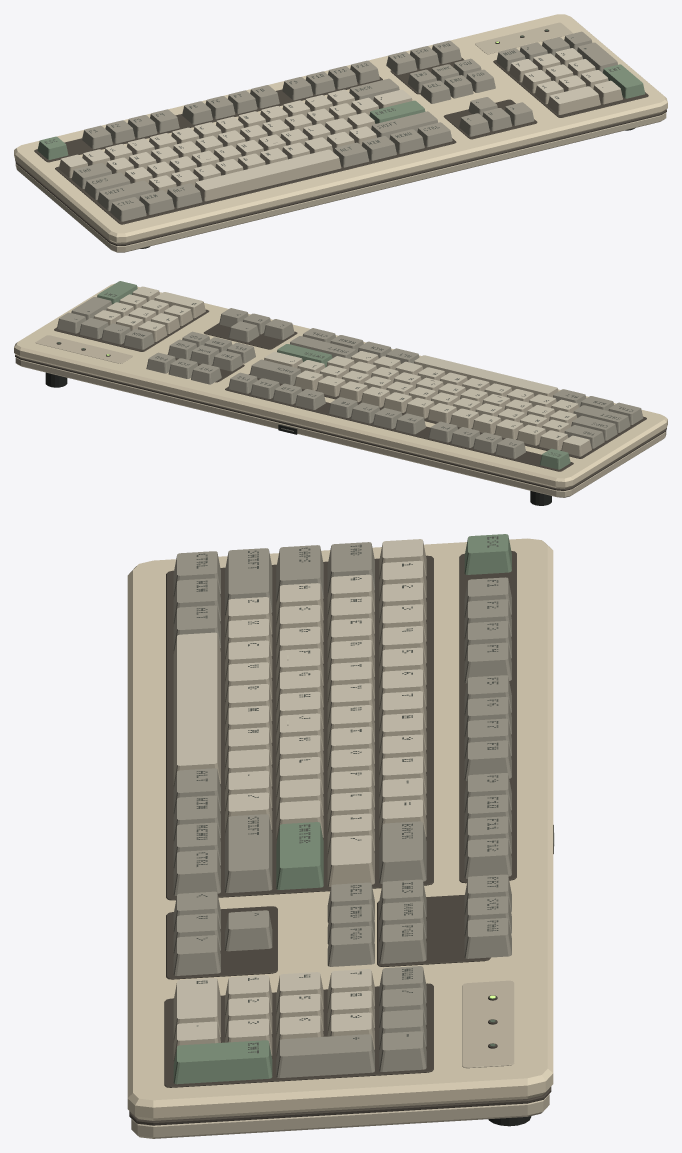
The model's file is retro-keyboard.glb.
3 views of the same model, one above another, from view 1: azimuth 30°, elevation 25°; view 2: azimuth 150°, elevation 25°; view 3: azimuth 270°, elevation 25° (orthographic). The views are drawn at different scales.
Parts seen in each view (by area): view 1: Keyboard cream upper housing, Keyboard lower shell, Keyboard key 057 SPACE, Keyboard case seam, Keyboard main switch recess, Keyboard printed legends, Keyboard function switch recess, Keyboard status indicator panel, Keyboard key 103 0, Keyboard key 053 SHIFT, Keyboard key 042 SHIFT, Keyboard key 102 ENT (+45 smaller); view 2: Keyboard cream upper housing, Keyboard lower shell, Keyboard case seam, Keyboard key 057 SPACE, Keyboard function switch recess, Keyboard printed legends, Keyboard status indicator panel, Keyboard key 014 BACK, Keyboard arrows switch recess, Keyboard key 053 SHIFT, Keyboard key 042 SHIFT, Keyboard key 103 0 (+53 smaller); view 3: Keyboard cream upper housing, Keyboard main switch recess, Keyboard key 057 SPACE, Keyboard lower shell, Keyboard printed legends, Keyboard status indicator panel, Keyboard function switch recess, Keyboard number pad switch recess, Keyboard key 102 ENT, Keyboard key 101 +, Keyboard key 053 SHIFT, Keyboard navigation switch recess (+102 smaller).
Boxes of the visible parts, x1,y1,x2,y2 form: Keyboard cream upper housing: (14,14,667,243); Keyboard lower shell: (15,112,666,252); Keyboard key 057 SPACE: (195,149,341,201); Keyboard case seam: (15,109,666,245); Keyboard main switch recess: (55,138,456,224); Keyboard printed legends: (44,37,620,205); Keyboard function switch recess: (34,76,382,162); Keyboard status indicator panel: (475,22,572,54); Keyboard key 103 0: (547,86,600,114); Keyboard key 053 SHIFT: (371,111,437,138); Keyboard key 042 SHIFT: (97,180,154,210); Keyboard key 102 ENT: (603,64,645,98); Keyboard cream upper housing: (14,283,667,488); Keyboard lower shell: (15,357,666,497); Keyboard case seam: (15,354,666,490); Keyboard key 057 SPACE: (414,355,558,397); Keyboard function switch recess: (225,387,573,471); Keyboard printed legends: (75,292,633,456); Keyboard status indicator panel: (35,335,132,363); Keyboard key 014 BACK: (249,359,301,385); Keyboard arrows switch recess: (204,323,297,349); Keyboard key 053 SHIFT: (290,336,356,358); Keyboard key 042 SHIFT: (573,405,630,432); Keyboard key 103 0: (154,292,205,318); Keyboard cream upper housing: (127,538,553,1120); Keyboard main switch recess: (166,555,433,900); Keyboard key 057 SPACE: (173,632,220,786); Keyboard lower shell: (131,1094,549,1138); Keyboard printed legends: (196,536,498,1053); Keyboard status indicator panel: (462,980,514,1068); Keyboard function switch recess: (459,551,516,883); Keyboard number pad switch recess: (164,983,433,1087); Keyboard key 102 ENT: (173,1040,272,1084); Keyboard key 101 +: (276,1034,374,1077); Keyboard key 053 SHIFT: (225,814,272,892); Keyboard navigation switch recess: (377,895,490,966).
Bounding box in the file's own units: 7.02 × 0.5585 × 2.33.
